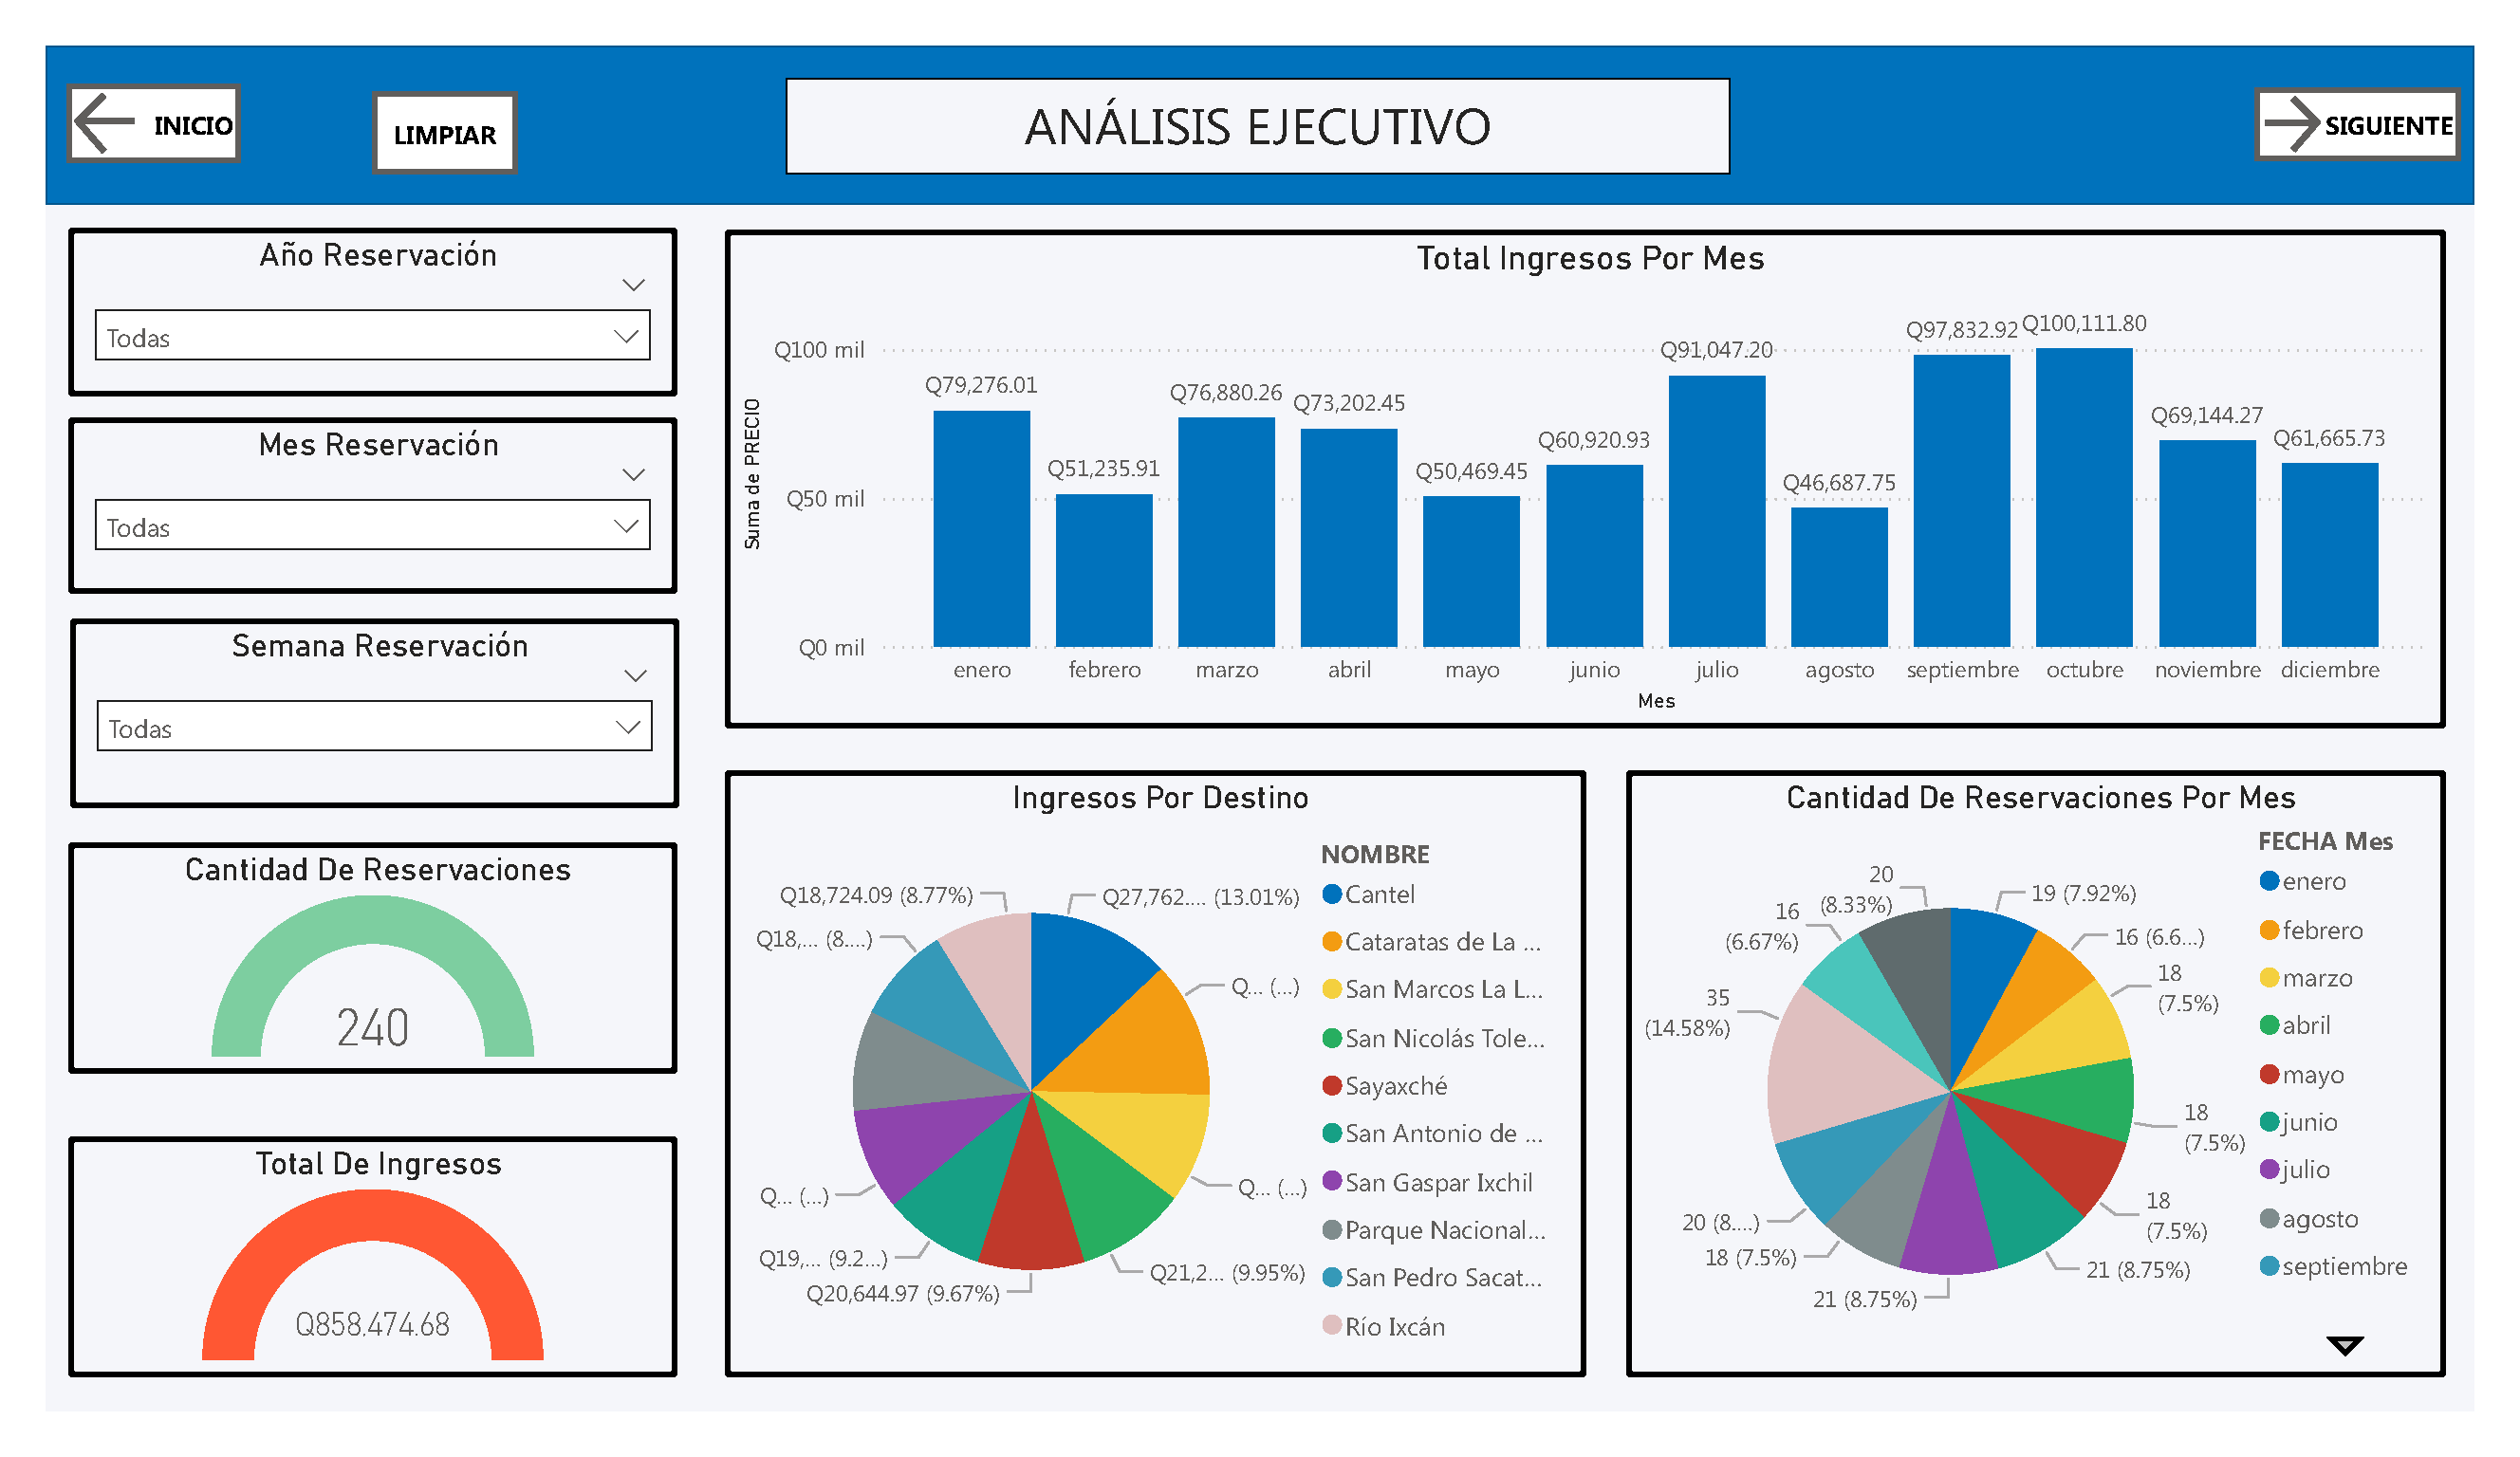

The page's visual inventory and layout, read from the dashboard file:
{"tool":"powerbi","page":{"name":"GERENCIA","canvas":[1280,720],"ordinal":1},"visuals":[{"type":"gauge","title":"Cantidad De Reservaciones","fields":{"Y":["Count(RESERVACION.COD_RESERVACION)"]},"box":[11.8,420,320.9,121.8],"z":0},{"type":"slicer","title":"Mes Reservación","fields":{"Values":["Consulta1.MES_RESERVACION"]},"box":[11.8,196.4,320.9,92.7],"z":1000},{"type":"slicer","title":"Semana Reservación","fields":{"Values":["Consulta1.SEMANA_RESERVACION"]},"box":[12.7,301.8,320.9,100],"z":2000},{"type":"clusteredColumnChart","title":"Total Ingresos Por Mes","fields":{"Category":["RESERVACION.FECHA.Variación.Jerarquía de fechas.Mes"],"Y":["Sum(GERENCIA1.PRECIO)"]},"box":[358.2,96.6,907,263.4],"z":3000},{"type":"slicer","title":"Año Reservación","fields":{"Values":["RESERVACION.FECHA.Variación.Jerarquía de fechas.Año"]},"box":[11.8,96.4,320.9,89.1],"z":4000},{"type":"shape","box":[0,0,1280.2,84.3],"z":5000},{"type":"actionButton","box":[1164.3,22,108.9,39.5],"z":6000},{"type":"actionButton","title":"Atras","box":[11.4,20.2,91.3,42.1],"z":7000},{"type":"textbox","box":[390,16.7,498.3,51.7],"z":8000},{"type":"gauge","title":"Total De Ingresos","fields":{"Y":["Sum(RESERVACION.PRECIO)"]},"box":[11.8,574.5,320.9,127.3],"z":9000},{"type":"actionButton","box":[172.1,23.7,77.3,44.8],"z":10000},{"type":"pieChart","title":"Ingresos Por Destino","fields":{"Category":["DESTINO.NOMBRE"],"Y":["Sum(RESERVACION.PRECIO)"]},"box":[358.2,382,454,319.6],"z":11000},{"type":"pieChart","title":"Cantidad De Reservaciones Por Mes","fields":{"Y":["CountNonNull(ITINERARIO.COD_ITINERARIO)"],"Category":["RESERVACION.FECHA.Variación.Jerarquía de fechas.Mes"]},"box":[833.3,382,432,319.6],"z":12000}]}

Visuals, with their boxes in screenshot pixels (x1, y1, x2, y2), scaled from the page's 1280x720 canvas onto the 2520x1457 screenshot:
"Cantidad De Reservaciones" gauge: <region>23, 850, 655, 1097</region>
"Mes Reservación" slicer: <region>23, 397, 655, 585</region>
"Semana Reservación" slicer: <region>25, 611, 657, 813</region>
"Total Ingresos Por Mes" clusteredColumnChart: <region>705, 195, 2491, 728</region>
"Año Reservación" slicer: <region>23, 195, 655, 376</region>
shape: <region>0, 0, 2519, 171</region>
actionButton: <region>2292, 45, 2507, 124</region>
"Atras" actionButton: <region>23, 41, 202, 126</region>
textbox: <region>768, 34, 1749, 138</region>
"Total De Ingresos" gauge: <region>23, 1163, 655, 1420</region>
actionButton: <region>339, 48, 491, 138</region>
"Ingresos Por Destino" pieChart: <region>705, 773, 1599, 1420</region>
"Cantidad De Reservaciones Por Mes" pieChart: <region>1640, 773, 2491, 1420</region>
